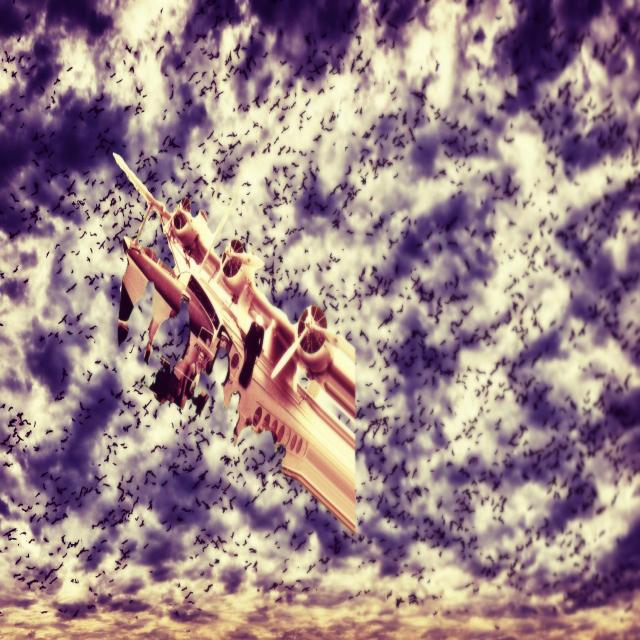airplane: (112, 151, 357, 535)
